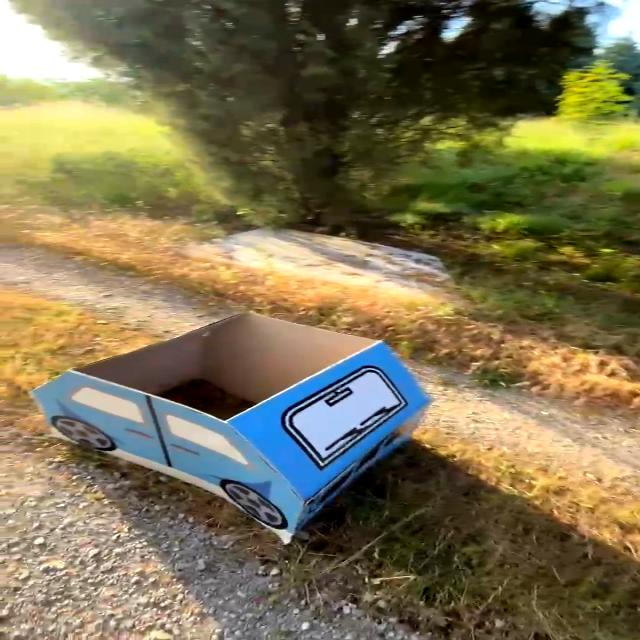blue_car: (0, 272, 459, 573)
